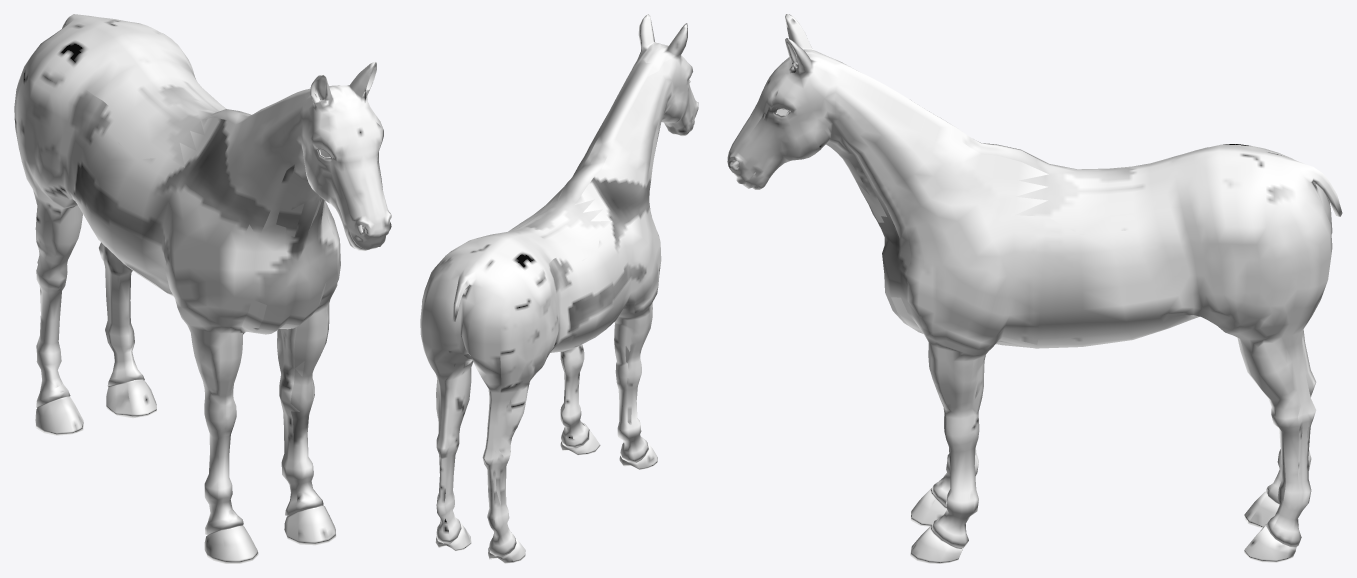
The model's file is horse.obj.
3 views of the same model, side by side, from view 1: azimuth 30°, elevation 25°; view 2: azimuth 150°, elevation 25°; view 3: azimuth 270°, elevation 25° (orthographic). The views are drawn at different scales.
Parts seen in each view (by area): view 1: horse___N; view 2: horse___N; view 3: horse___N.
Part boxes in pixels (<box>): horse___N: <box>14,14,391,563</box>; horse___N: <box>420,14,698,563</box>; horse___N: <box>727,14,1342,563</box>.
Bounding box in the file's own units: 2.63 × 8.05 × 8.79.
Materials: 1 (1 with a texture image).
